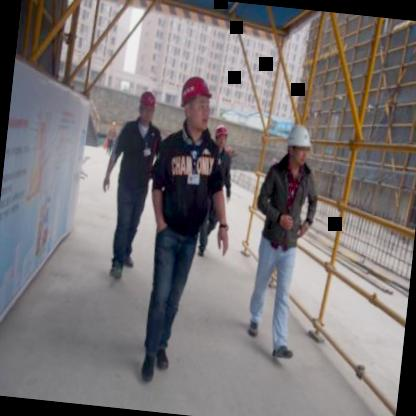helmet: (174, 66, 218, 136), (282, 121, 315, 170), (134, 86, 159, 126), (212, 119, 229, 150)
